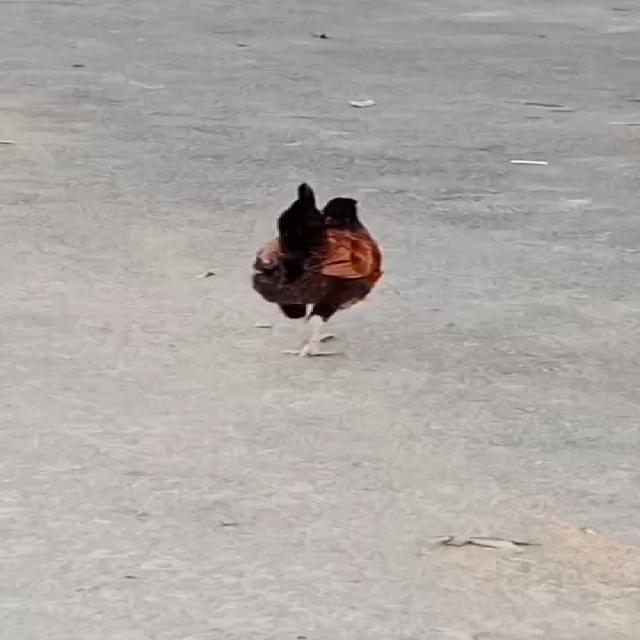walking: (242, 178, 405, 362)
